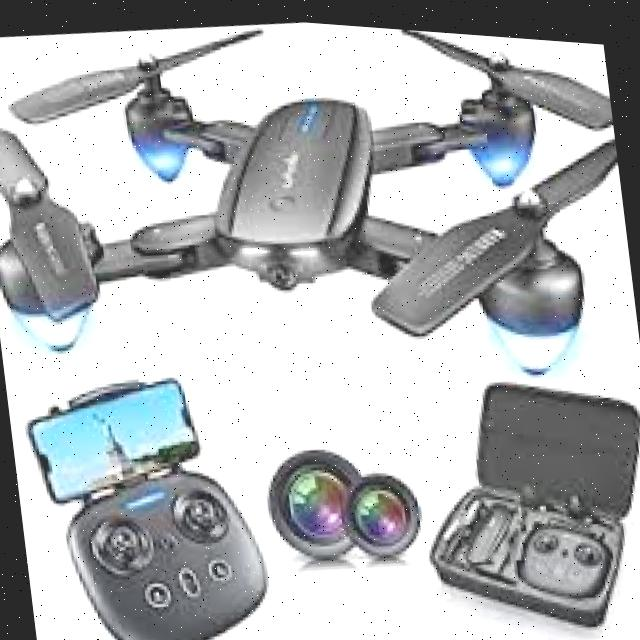drone: (0, 0, 640, 445)
